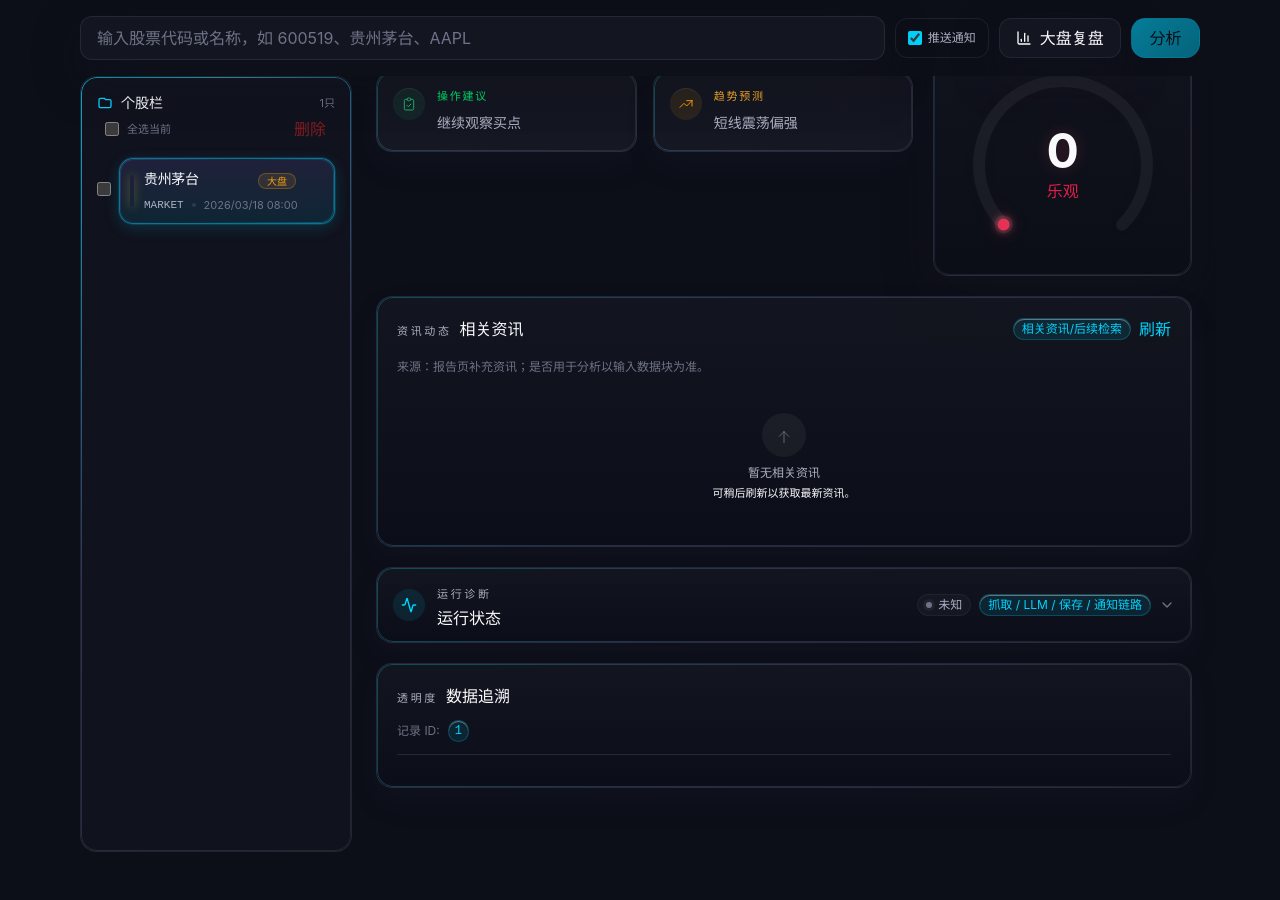
HomePage › scrolls the dashboard to market review feedback after toolbar clicks
(page scrolled)
Click the button "大盘复盘" at (1060, 38), box [999, 18, 1121, 58]
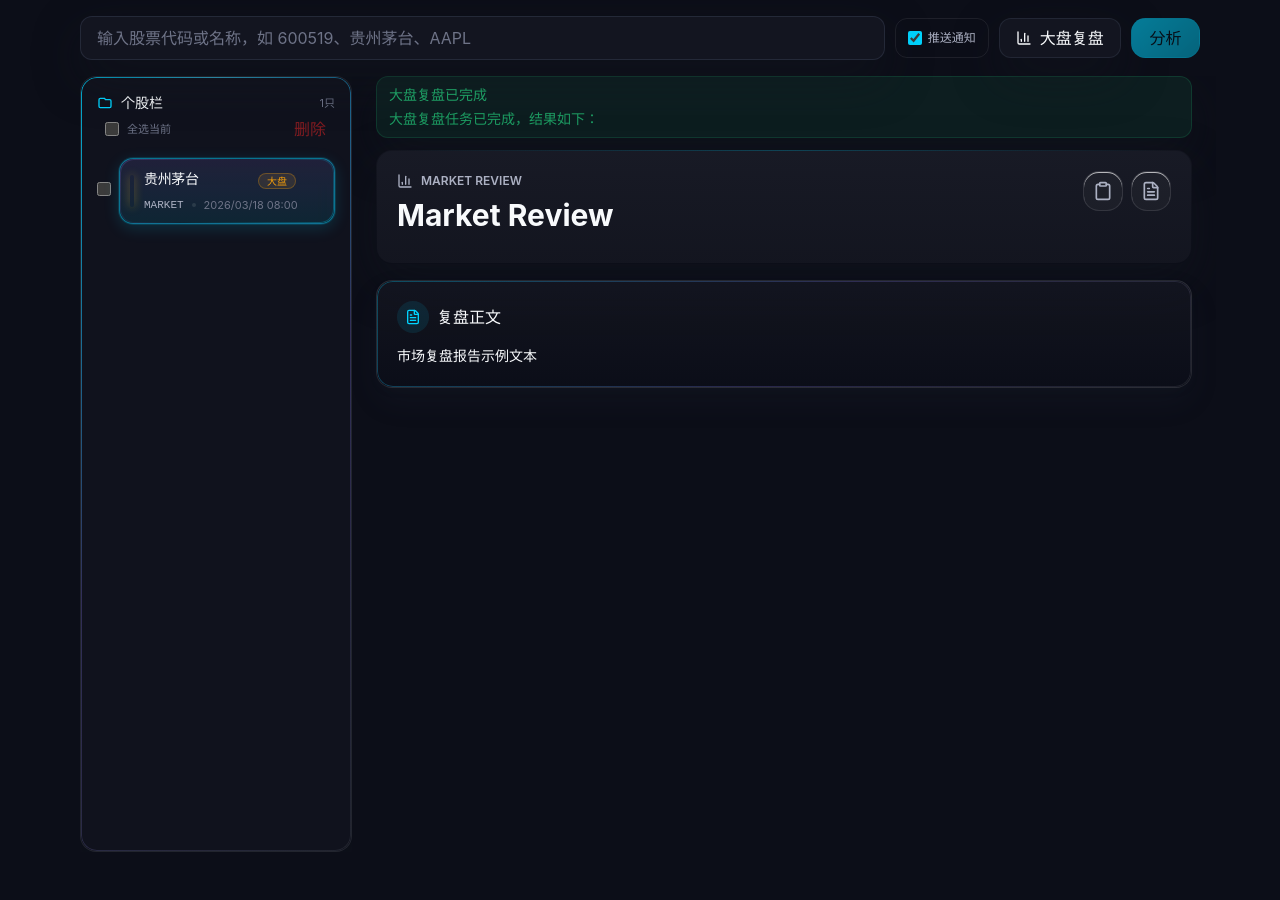
Expected: the text "大盘复盘已完成" is shown, [389, 86, 487, 103]
